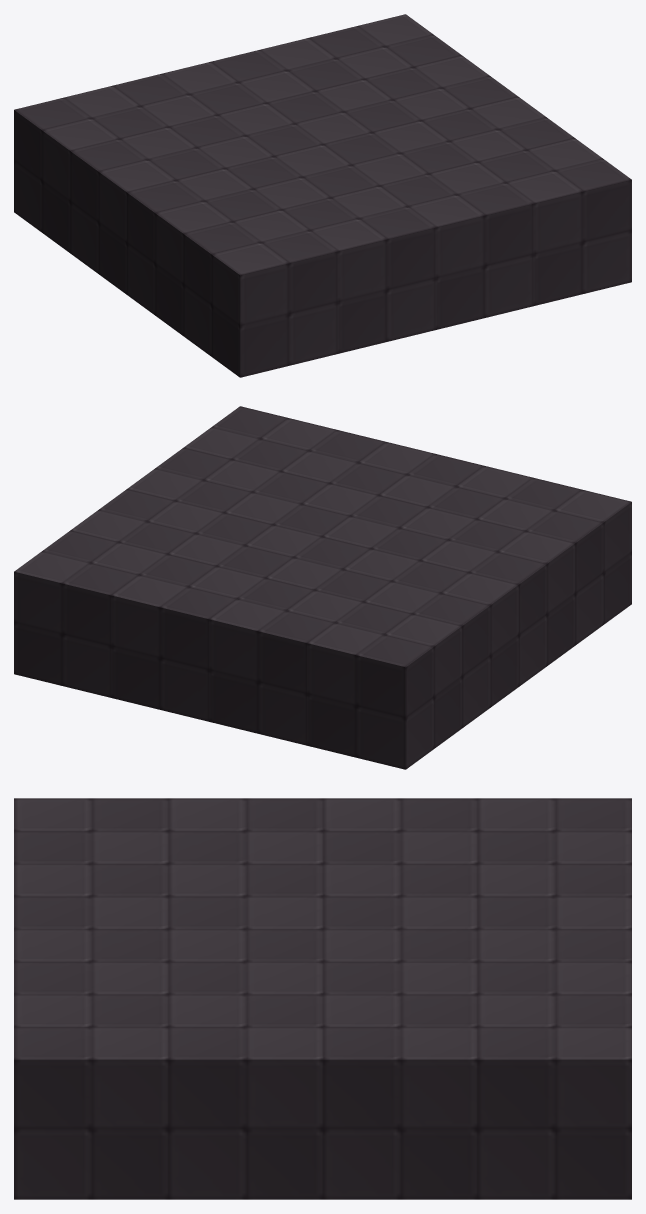
Rendered from ground_block_8x2x8.fbx.
The picture shows the model from 3 angles, top to bottom: view 1: azimuth 30°, elevation 25°; view 2: azimuth 150°, elevation 25°; view 3: azimuth 270°, elevation 25°; orthographic projection. The views are drawn at different scales.
Parts seen in each view (by area): view 1: ground_block_8x2x8; view 2: ground_block_8x2x8; view 3: ground_block_8x2x8.
Part boxes in pixels (bbox=[...]): ground_block_8x2x8: bbox=[14, 14, 631, 377]; ground_block_8x2x8: bbox=[14, 406, 631, 769]; ground_block_8x2x8: bbox=[14, 798, 631, 1199].
Bounding box in the file's own units: 800 × 200 × 800.
